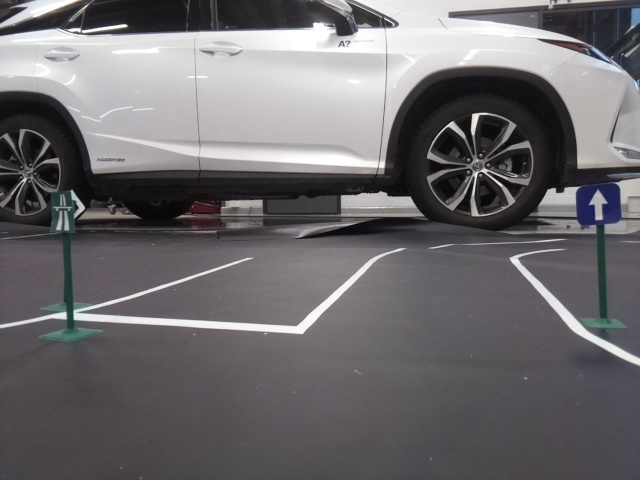OneWay: (578, 184, 621, 223)
